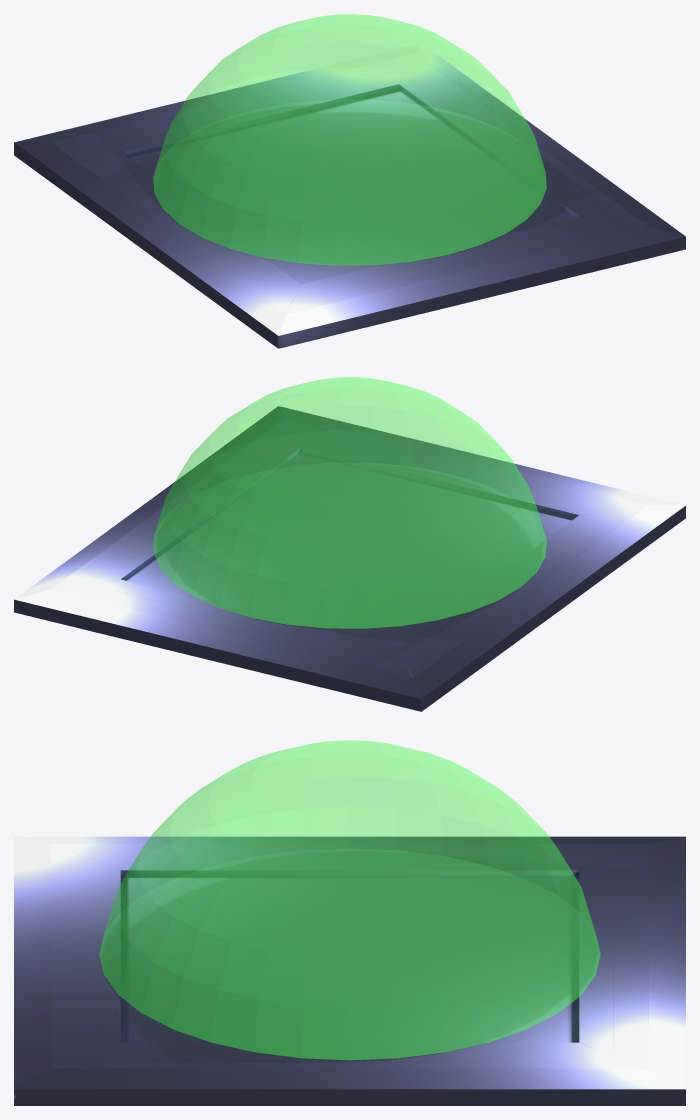
3 views of the same model, one above another, from view 1: azimuth 30°, elevation 25°; view 2: azimuth 150°, elevation 25°; view 3: azimuth 270°, elevation 25° (orthographic). The views are drawn at different scales.
Visible parts, largest first — view 1: Base, BaseLandingZone; view 2: Base, BaseLandingZone; view 3: Base, BaseLandingZone.
Part boxes in pixels (left/top/right/bottom): Base: left=14, top=43, right=685, bottom=348; BaseLandingZone: left=153, top=14, right=546, bottom=265; Base: left=14, top=406, right=685, bottom=711; BaseLandingZone: left=153, top=377, right=546, bottom=628; Base: left=14, top=836, right=685, bottom=1105; BaseLandingZone: left=99, top=740, right=600, bottom=1060.
Bounding box in the file's own units: 66.29 × 26.38 × 74.51.
Materials: 2 (1 with a texture image).
